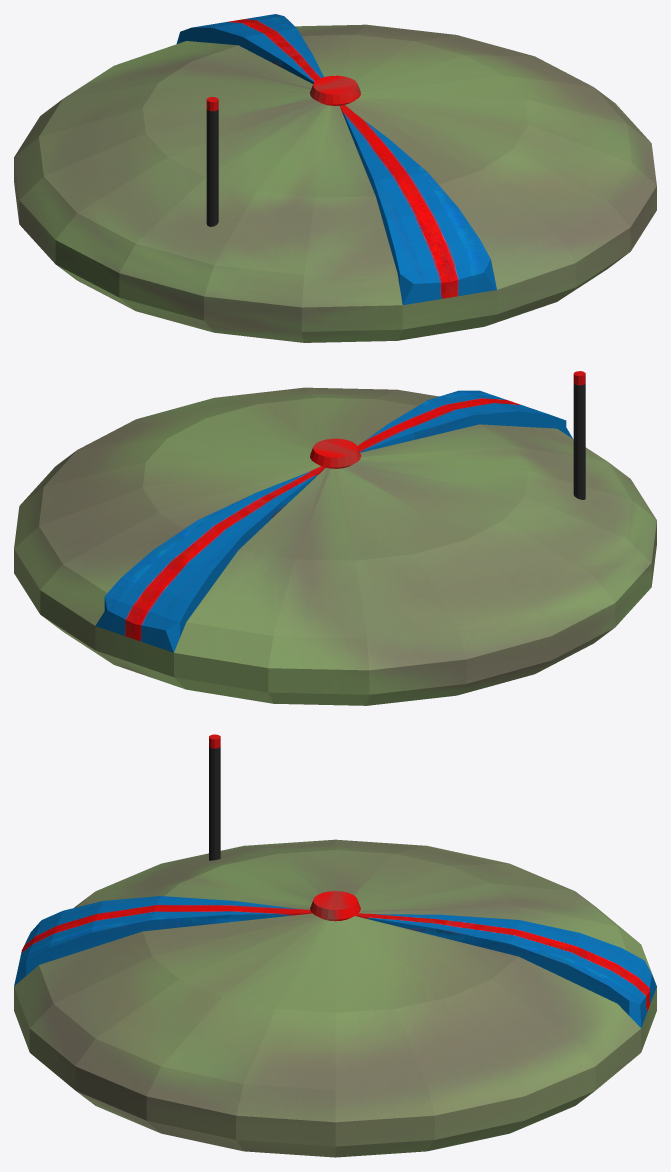
File: Mine.dae
The picture shows the model from 3 angles, top to bottom: view 1: azimuth 30°, elevation 25°; view 2: azimuth 150°, elevation 25°; view 3: azimuth 270°, elevation 25°; orthographic projection.
Visible parts, largest first — view 1: Mine-0; view 2: Mine-0; view 3: Mine-0.
Part boxes in pixels (<box>): Mine-0: <box>14,14,656,342</box>; Mine-0: <box>14,371,656,705</box>; Mine-0: <box>14,734,656,1157</box>.
Bounding box in the file's own units: 2.17 × 0.767 × 2.17.
